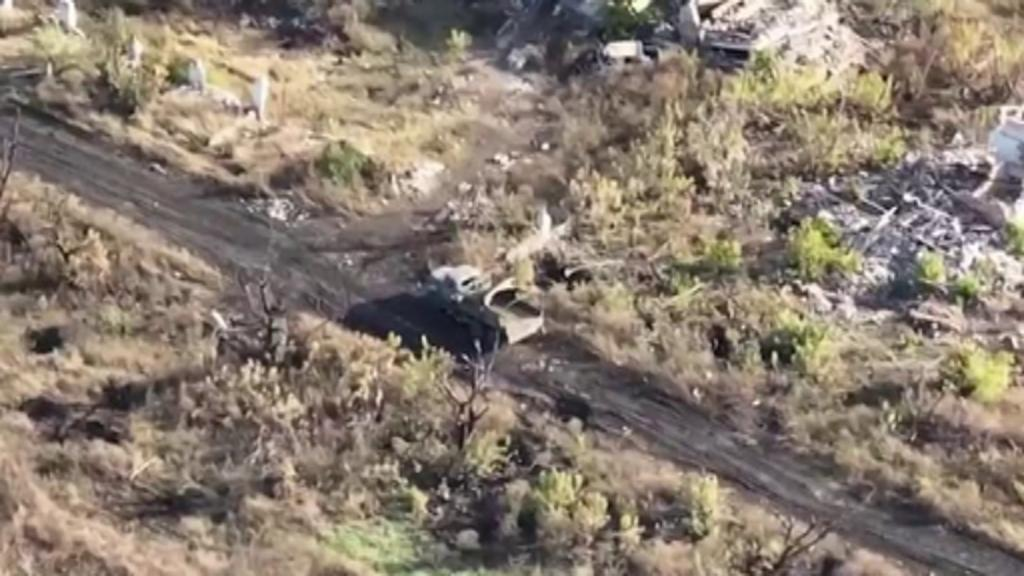TRUCK: (428, 260, 542, 349)
